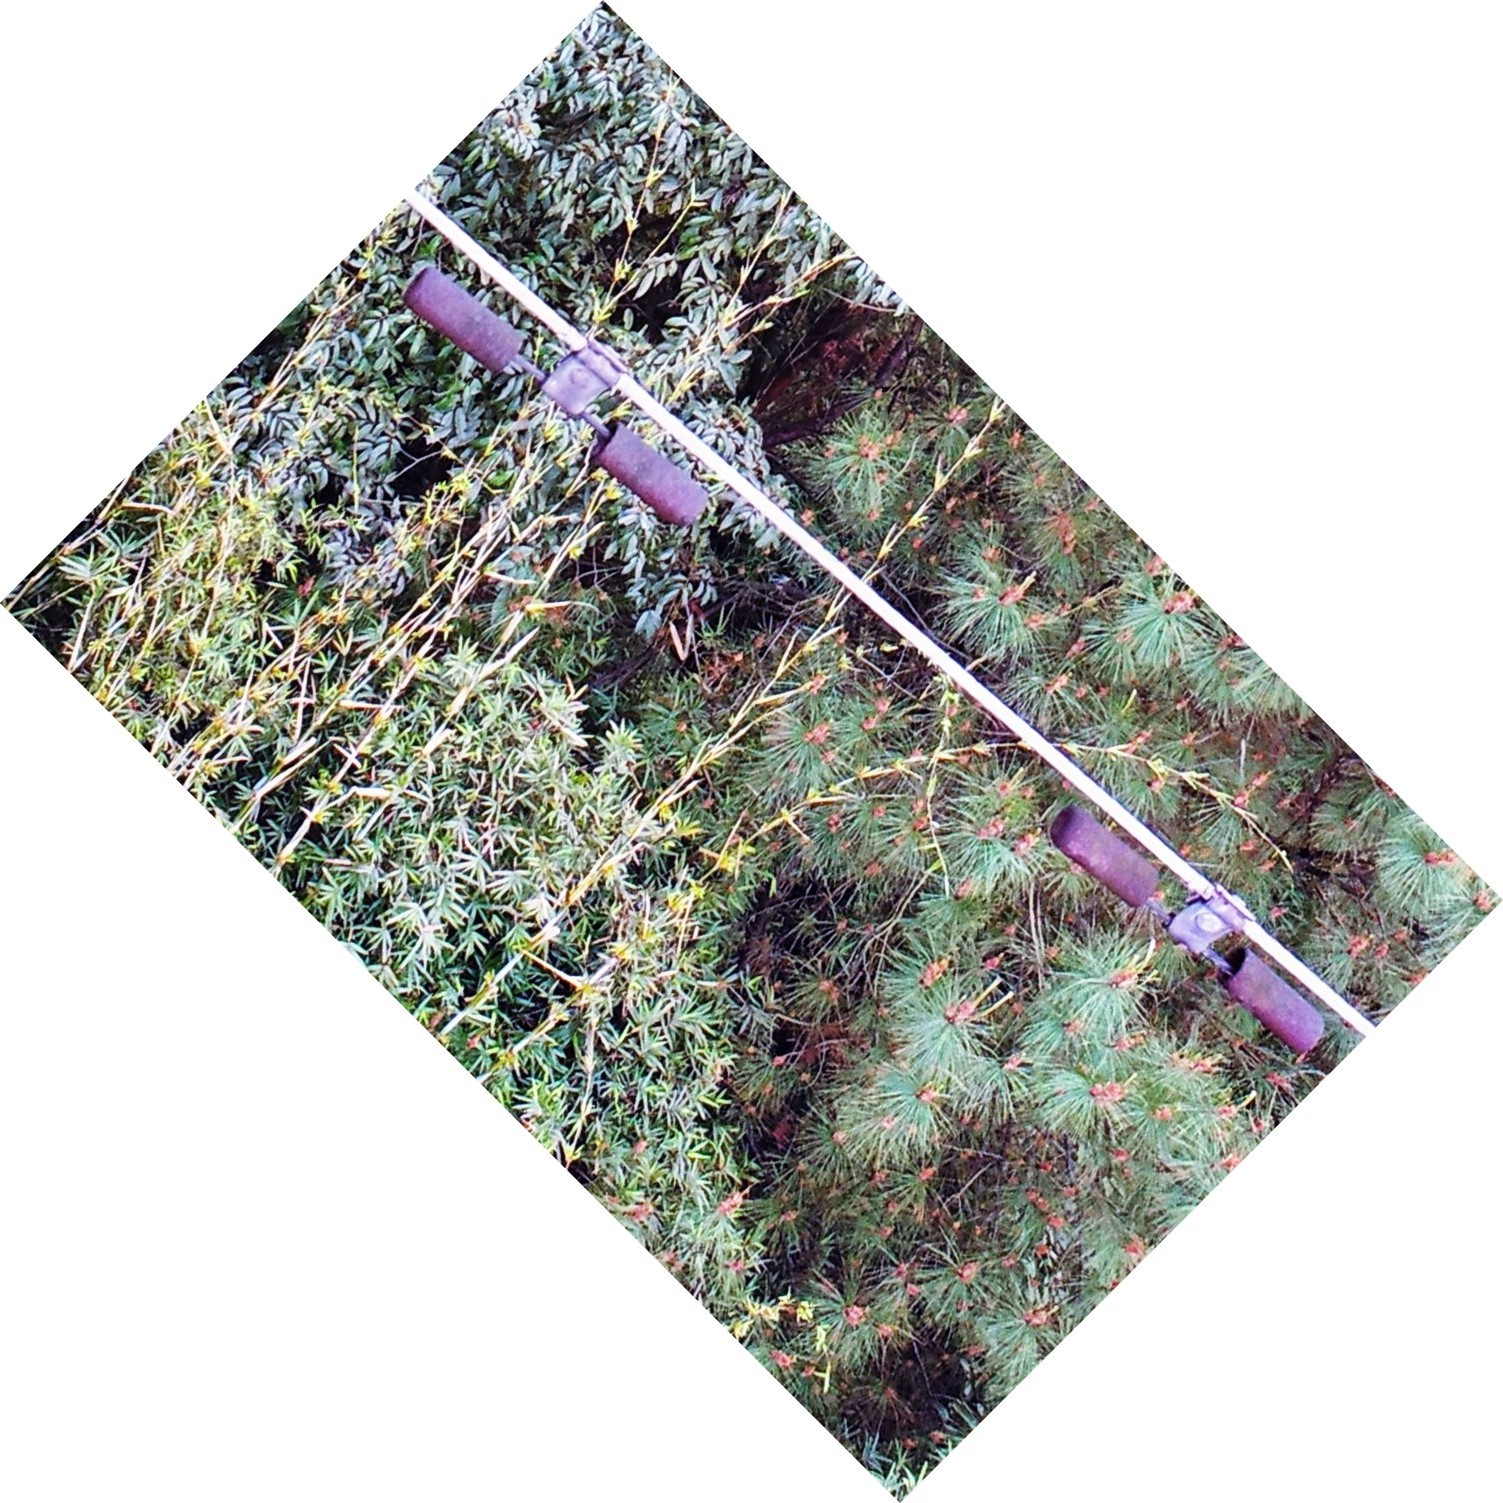Shockproof hammer: (396, 230, 728, 546), (1041, 782, 1350, 1068)
